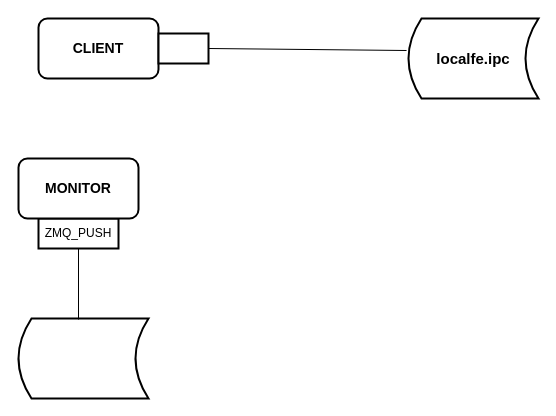
This 556x416 diagram has some shape labels left out. The shapes that lost their labels are listed below. From the top down, each one's centre as x and y in pixels, then its label:
At point (183, 48): "REQ".
At point (83, 358): "monitor.ipc".
